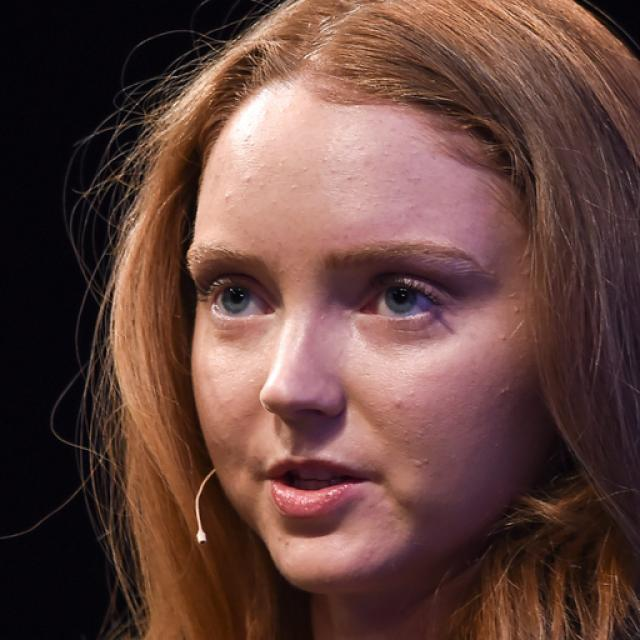Acne: (409, 450, 439, 474), (494, 379, 517, 401), (503, 302, 525, 322), (387, 392, 406, 414), (336, 171, 359, 188), (495, 329, 516, 347), (214, 187, 233, 206), (318, 150, 335, 170), (241, 166, 255, 188), (297, 162, 313, 179), (285, 178, 300, 196)
